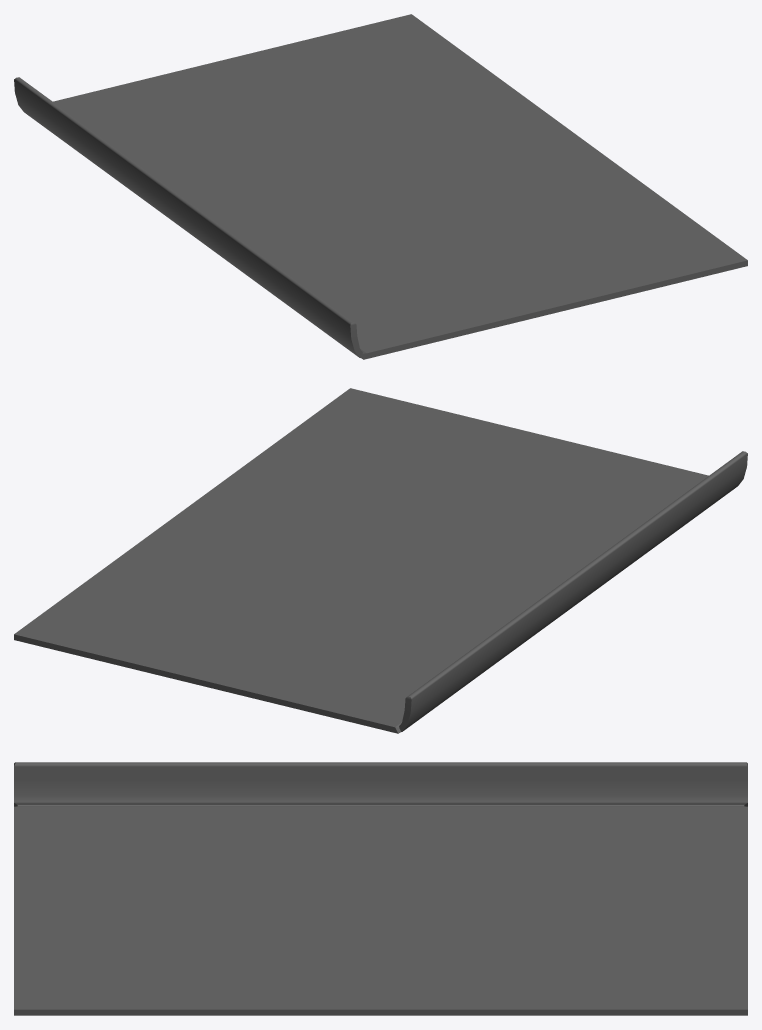
File: Book_26_book_26_2.obj
3 views of the same model, one above another, from view 1: azimuth 30°, elevation 25°; view 2: azimuth 150°, elevation 25°; view 3: azimuth 270°, elevation 25° (orthographic). The views are drawn at different scales.
Bounding box in the file's own units: 0.2522 × 0.0237 × 0.3695.
Materials: 1 (1 with a texture image).
